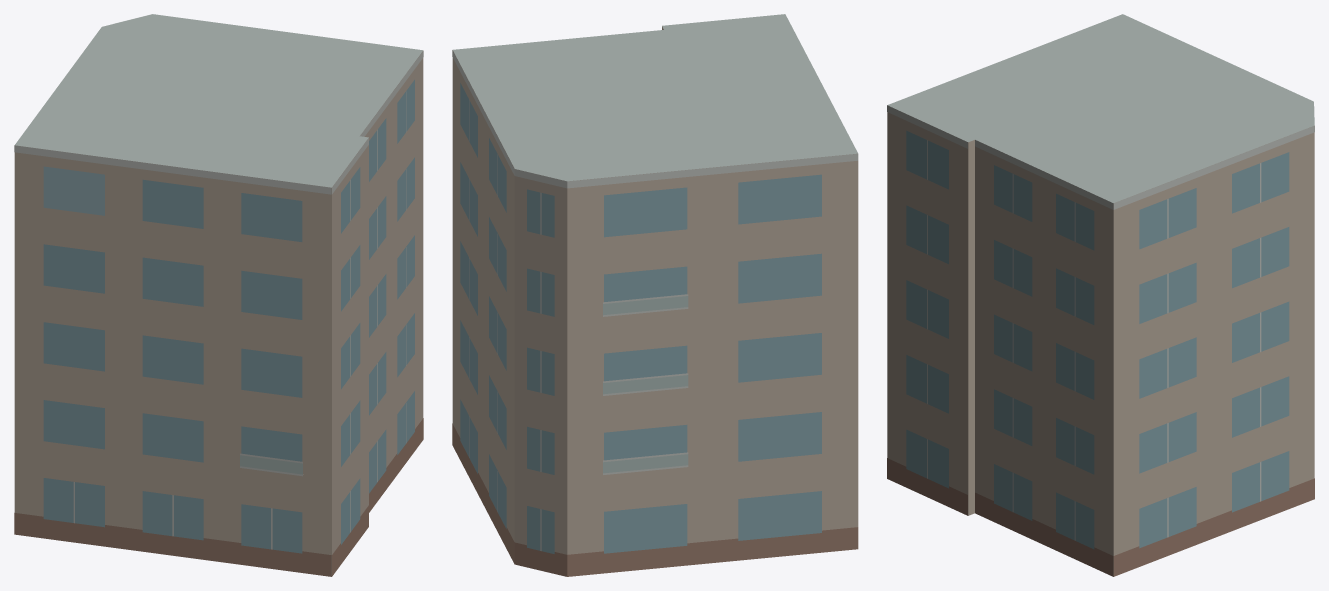
The model's file is survey-upis-32814413.glb.
3 views of the same model, side by side, from view 1: azimuth 30°, elevation 25°; view 2: azimuth 150°, elevation 25°; view 3: azimuth 270°, elevation 25° (orthographic). The views are drawn at different scales.
Parts seen in each view (by area): view 1: survey-upis-32814413.tmp; view 2: survey-upis-32814413.tmp; view 3: survey-upis-32814413.tmp.
Part boxes in pixels (x1=…): survey-upis-32814413.tmp: x1=14, y1=14, x2=423, y2=576; survey-upis-32814413.tmp: x1=452, y1=14, x2=858, y2=576; survey-upis-32814413.tmp: x1=887, y1=14, x2=1314, y2=576.
Size of the model in its own units: 14.73 by 13.55 by 14.06.
